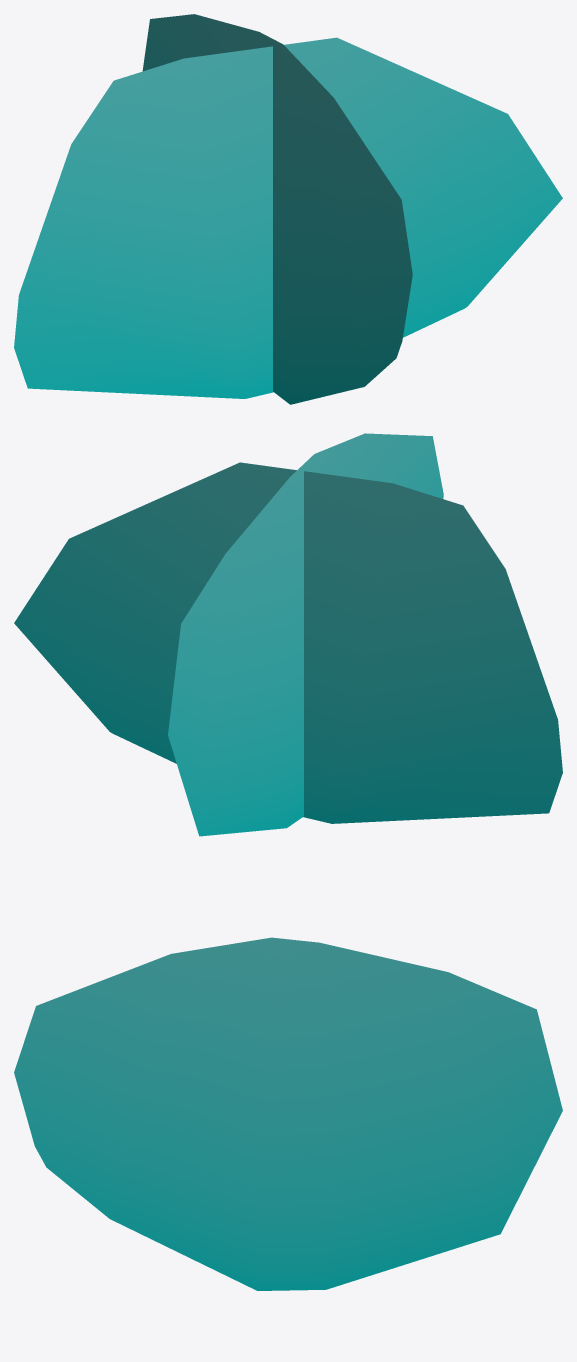
File: Downy_Willow_wknlfiuqx_Mid_wknlfiuqx_VarE_LOD3.fbx
The picture shows the model from 3 angles, top to bottom: view 1: azimuth 30°, elevation 25°; view 2: azimuth 150°, elevation 25°; view 3: azimuth 270°, elevation 25°; orthographic projection.
Parts seen in each view (by area): view 1: _cq09_VarE_LOD6; view 2: _cq09_VarE_LOD6; view 3: _cq09_VarE_LOD6.
Boxes of the visible parts, box(x1,y1,x2,y2) form: _cq09_VarE_LOD6: box(14, 14, 562, 404); _cq09_VarE_LOD6: box(14, 433, 562, 836); _cq09_VarE_LOD6: box(14, 937, 562, 1290).
Bounding box in the file's own units: 283 × 175 × 246.
